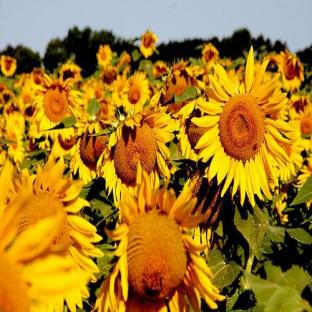sunflower: (191, 47, 295, 208)
